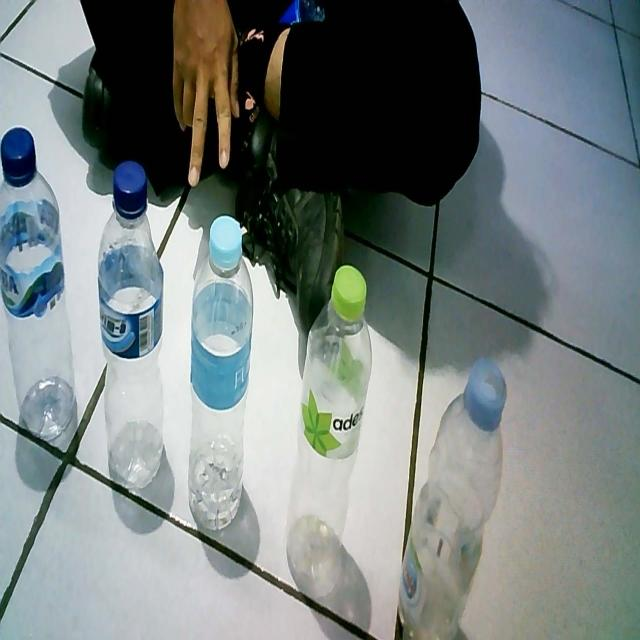botol: (284, 204, 378, 617), (388, 345, 519, 640), (96, 135, 180, 524), (1, 120, 80, 483), (187, 208, 263, 551)
